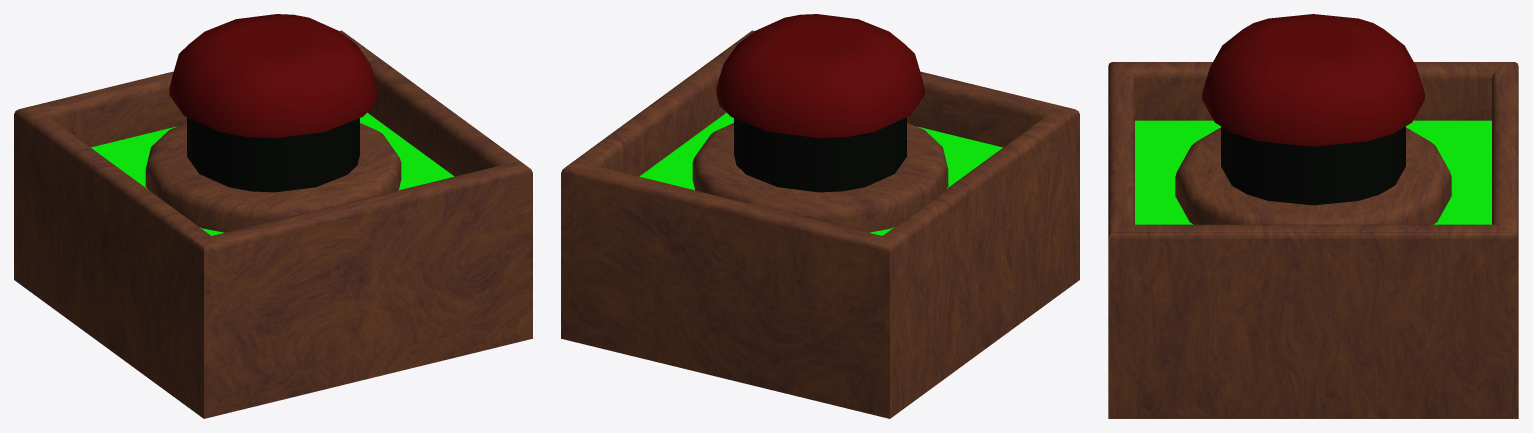
The model's file is button.fbx.
The picture shows the model from 3 angles, left to right: view 1: azimuth 30°, elevation 25°; view 2: azimuth 150°, elevation 25°; view 3: azimuth 270°, elevation 25°; orthographic projection. The views are drawn at different scales.
Visible parts, largest first — view 1: Stop Button.001, Stop Button.002; view 2: Stop Button.001, Stop Button.002; view 3: Stop Button.001, Stop Button.002.
Boxes of the visible parts, left/top/right/bottom form: Stop Button.001: left=14, top=30, right=532, bottom=418; Stop Button.002: left=169, top=14, right=377, bottom=192; Stop Button.001: left=561, top=30, right=1079, bottom=418; Stop Button.002: left=716, top=14, right=924, bottom=192; Stop Button.001: left=1108, top=62, right=1518, bottom=418; Stop Button.002: left=1202, top=14, right=1424, bottom=205.
Size of the model in its own units: 250 by 196 by 250.
Materials: 3 (1 with a texture image).
